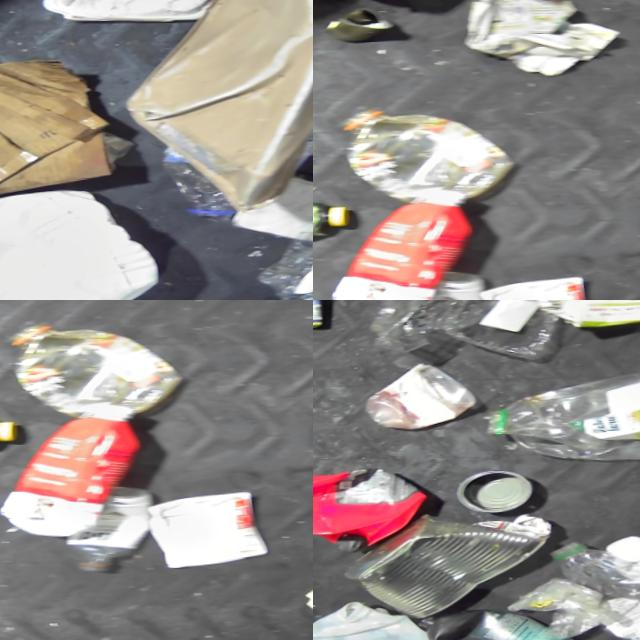can: (346, 510, 559, 623), (366, 360, 487, 433), (459, 469, 544, 515), (328, 6, 398, 44), (313, 300, 332, 332)
milk_jug: (0, 182, 177, 300), (313, 596, 458, 640)
non_white_jug: (7, 405, 154, 518), (339, 190, 486, 300), (313, 464, 436, 556), (421, 605, 601, 640), (534, 300, 640, 332)
plastic_bottle: (485, 363, 640, 470), (547, 536, 640, 640), (162, 149, 249, 223), (269, 210, 313, 299)
